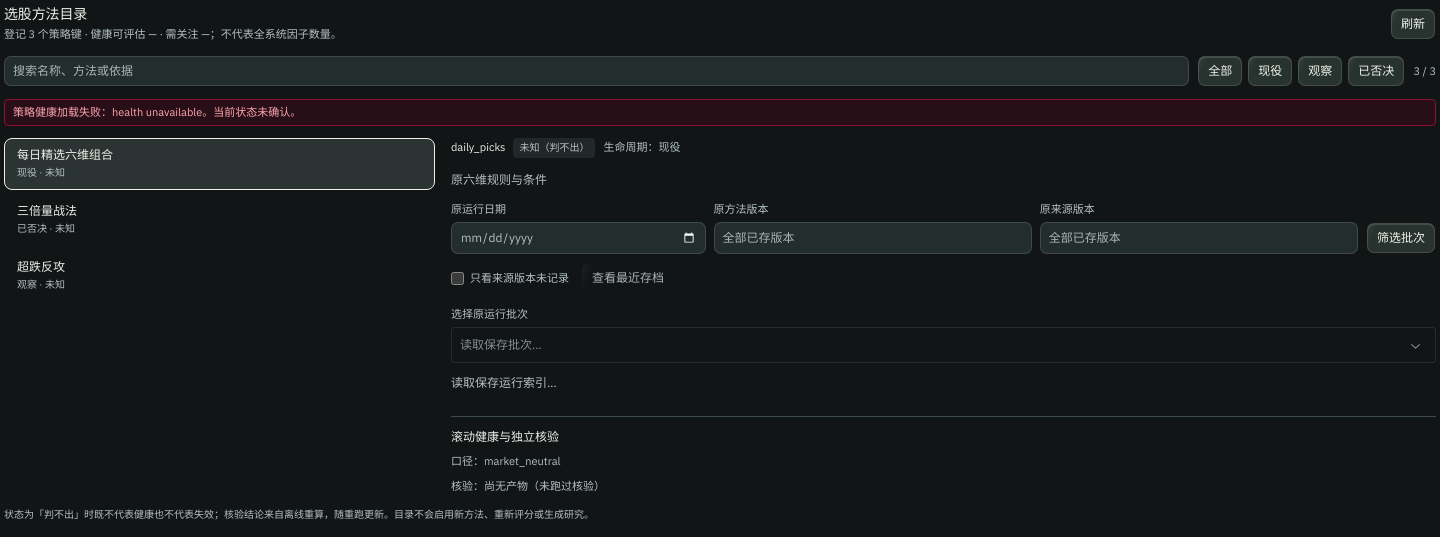
it: 方法目录 · 保存运行与联动 › 登记结果在健康失败时仍完整可读，并按生命周期筛选
Expected: the text "每日精选六维组合" is shown, [17, 147, 113, 162]
Expected: the text "三倍量战法" is shown, [17, 203, 77, 218]
Click the button "已否决": (1376, 71) [1347, 55, 1405, 87]
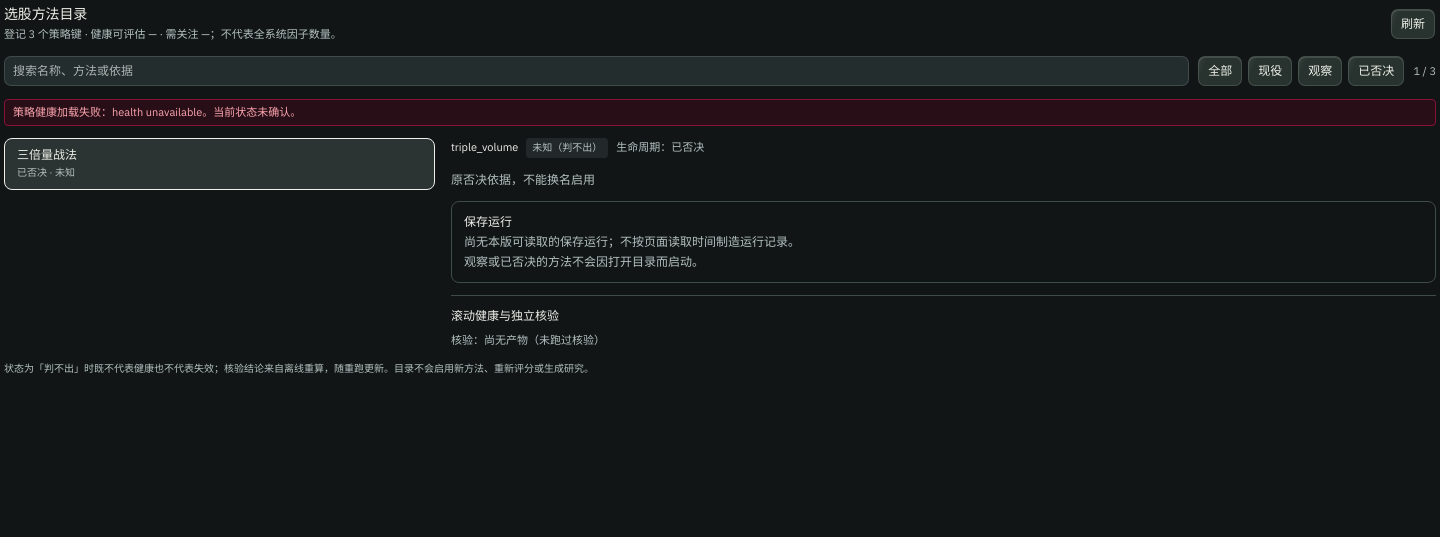
Expected: the text "三倍量战法" is shown, [17, 147, 77, 162]
Expected: the button "每日精选六维组合" is gone
Expected: the text "原否决依据，不能换名启用" is shown, [451, 172, 595, 187]
